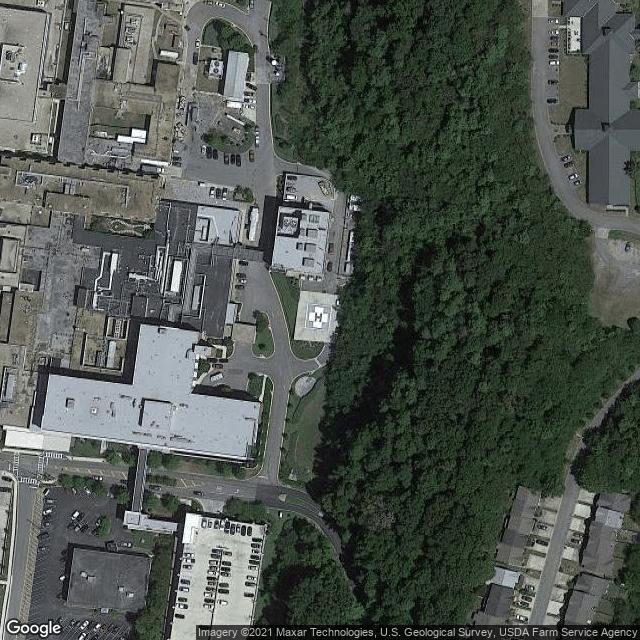Helipad: (303, 299, 332, 330)
